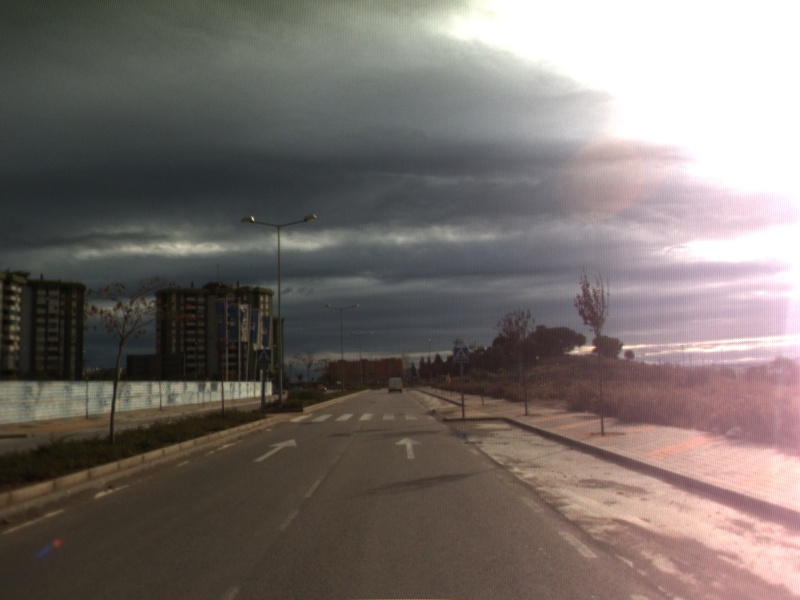STRAIGHT: (251, 437, 299, 464), (393, 435, 425, 461)
